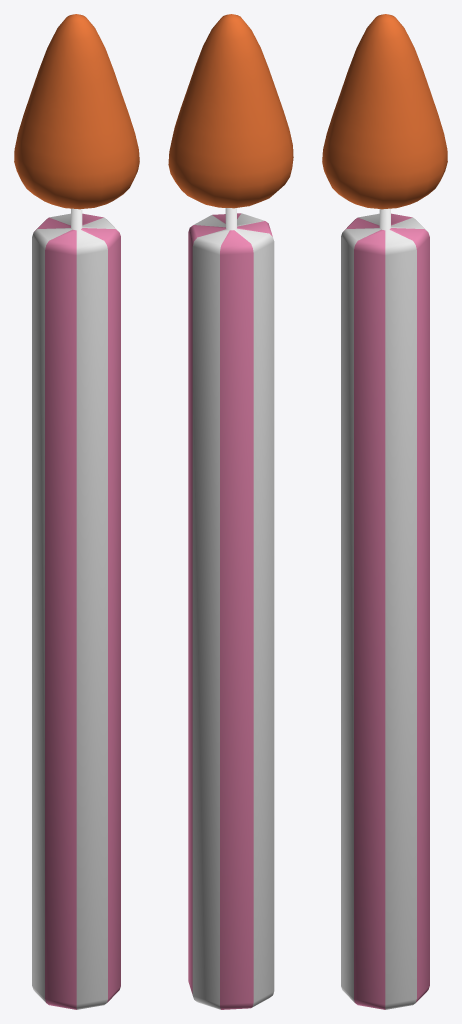
The model's file is candle1.glb.
3 views of the same model, side by side, from view 1: azimuth 90°, elevation 25°; view 2: azimuth 210°, elevation 25°; view 3: azimuth 270°, elevation 25° (orthographic).
Parts seen in each view (by area): view 1: Cylinder; view 2: Cylinder; view 3: Cylinder.
Part boxes in pixels (bbox=[...]): Cylinder: bbox=[14, 14, 139, 1009]; Cylinder: bbox=[168, 14, 293, 1009]; Cylinder: bbox=[322, 14, 447, 1009].
Bounding box in the file's own units: 0.2265 × 1.94 × 0.2257.
